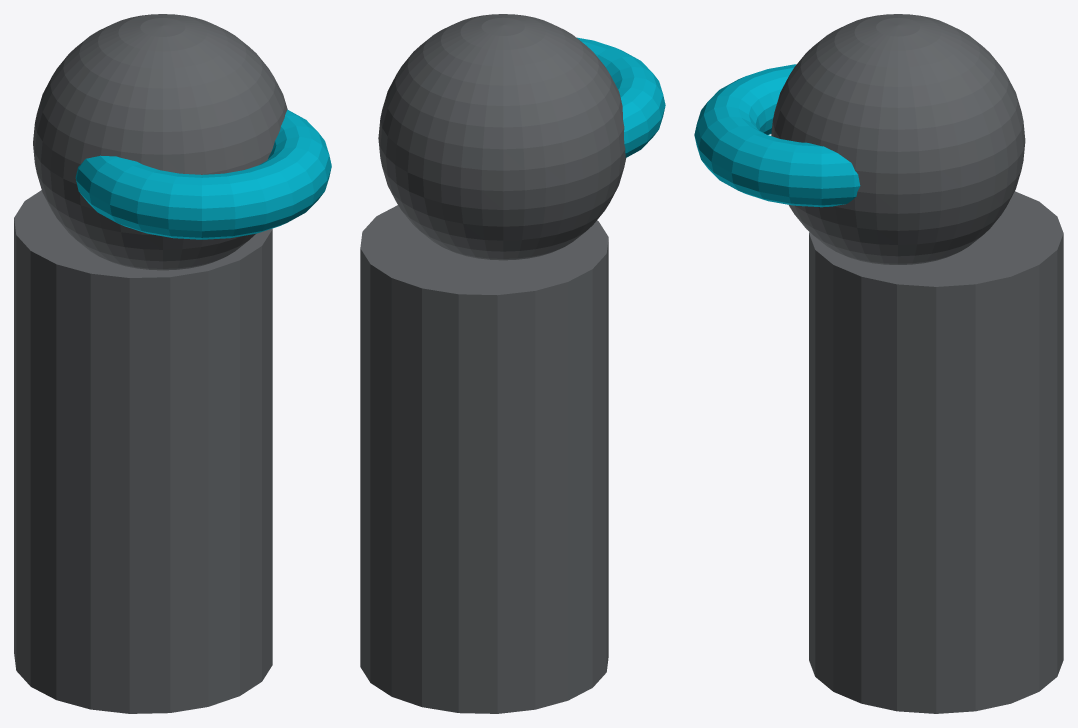
Rendered from character.glb.
3 views of the same model, side by side, from view 1: azimuth 30°, elevation 25°; view 2: azimuth 150°, elevation 25°; view 3: azimuth 270°, elevation 25° (orthographic). The views are drawn at different scales.
Visible parts, largest first — view 1: Mesh_Mesh_head_geo.001_lambert2SG.001; view 2: Mesh_Mesh_head_geo.001_lambert2SG.001; view 3: Mesh_Mesh_head_geo.001_lambert2SG.001.
Part boxes in pixels (left/top/right/bottom): Mesh_Mesh_head_geo.001_lambert2SG.001: left=14, top=14, right=331, bottom=713; Mesh_Mesh_head_geo.001_lambert2SG.001: left=360, top=14, right=665, bottom=713; Mesh_Mesh_head_geo.001_lambert2SG.001: left=694, top=14, right=1063, bottom=713.
Size of the model in its own units: 20 by 55 by 29.
